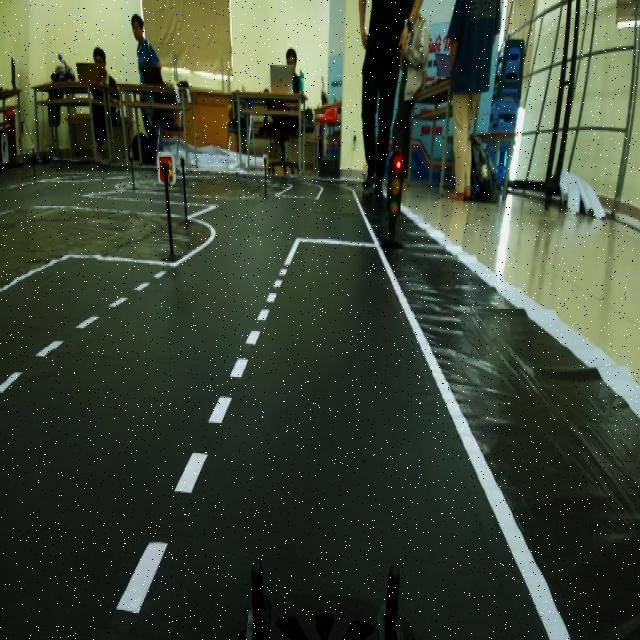trafficlight: (376, 142, 406, 257)
